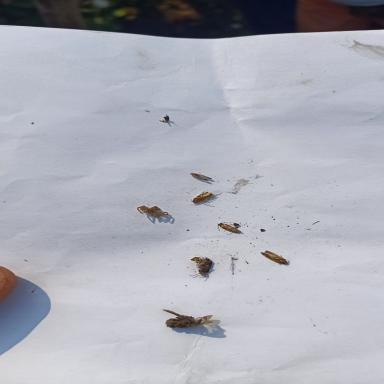pbw: (259, 249, 291, 265), (189, 188, 221, 204), (216, 220, 244, 236), (189, 172, 213, 182)
